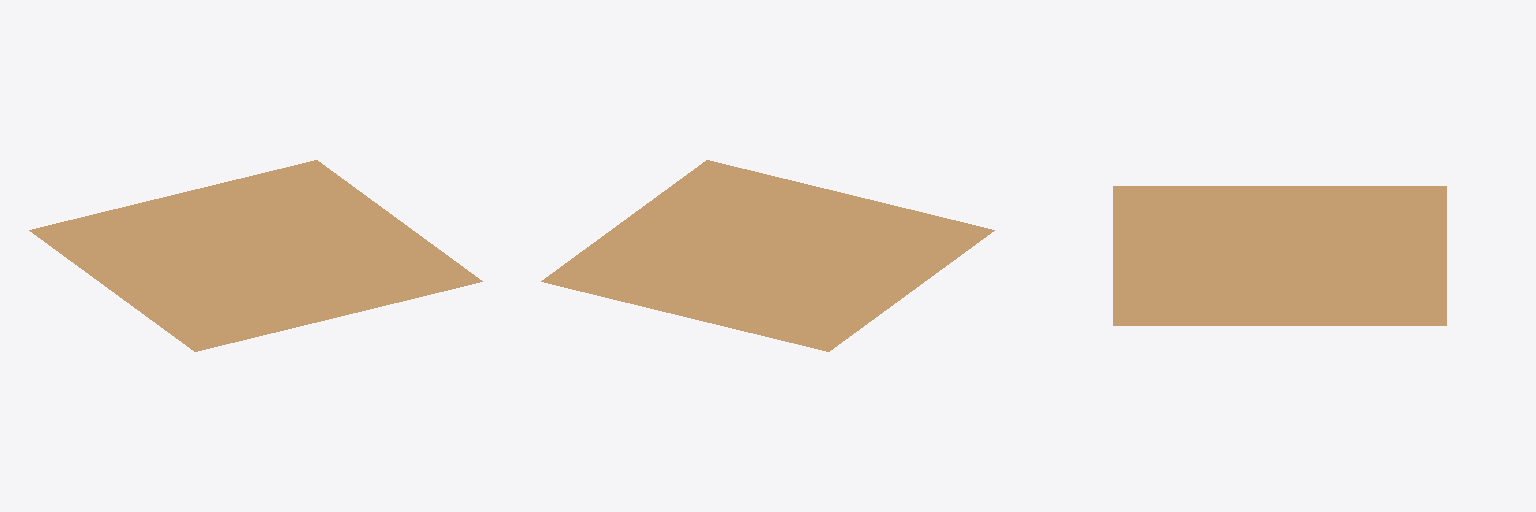
Rendered from floor32b.obj.
The picture shows the model from 3 angles: view 1: azimuth 30°, elevation 25°; view 2: azimuth 150°, elevation 25°; view 3: azimuth 270°, elevation 25°; orthographic projection.
Visible parts, largest first — view 1: Grid.001; view 2: Grid.001; view 3: Grid.001.
Part boxes in pixels (x1,y1,x2,y2): Grid.001: (29,160,482,351); Grid.001: (541,160,994,351); Grid.001: (1113,186,1446,325).
Size of the model in its own units: 538 by 0.0002 by 538.